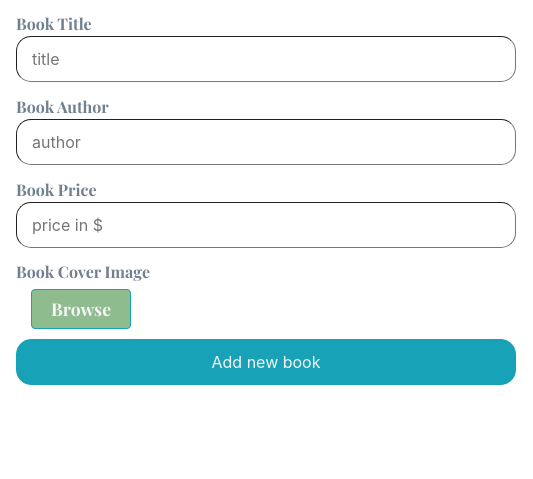
Test: Add book form component tests › Add book form validation with negative price test
The width and height of the screenshot is (533, 479).
Expected: the field with test id "add-book-input-title" is shown, [16,36,516,82]
Type "-100" into the number field with test id "add-book-input-price" at (266, 225), box [16,202,516,248]
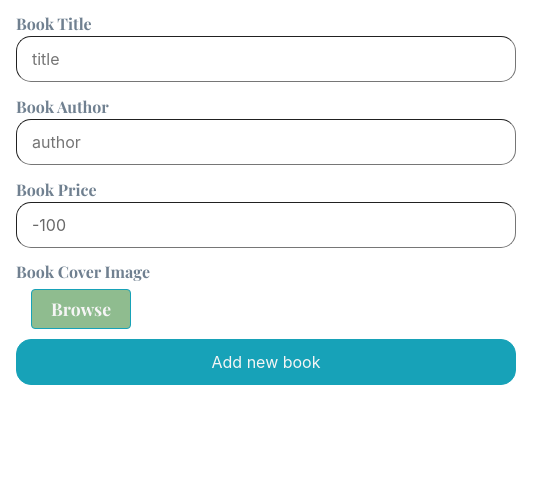
Click the button with test id "add-book-submit-btn" at (266, 362), box [16,339,516,385]
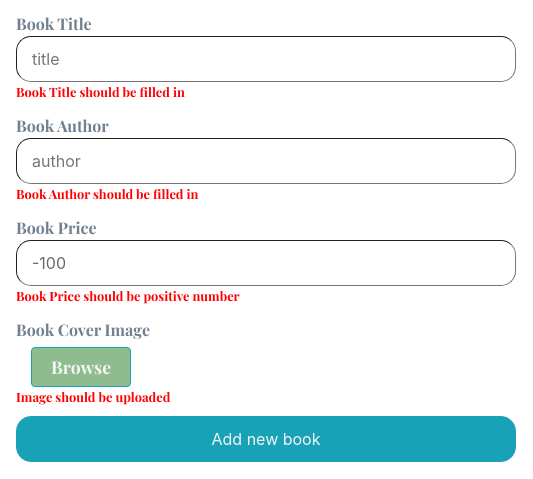
Expected: the text "Book Price should be positive number" is shown, [16,287,240,304]
